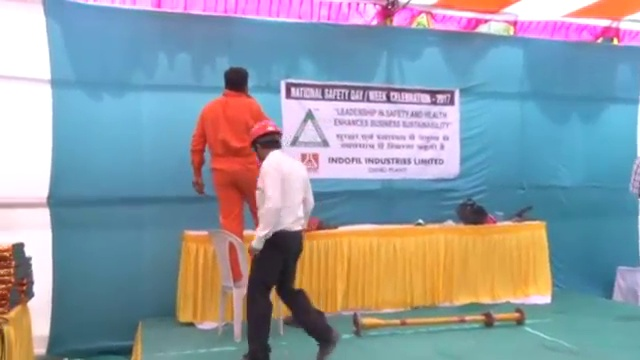helmet: (247, 119, 283, 147)
helmet_off: (221, 64, 252, 94)
helmet_on: (245, 119, 284, 164)
person: (241, 117, 341, 360), (189, 65, 261, 284)
